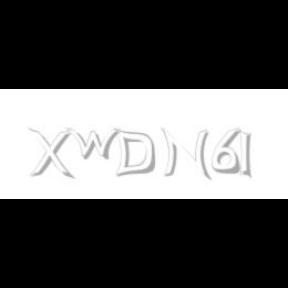6: (212, 128, 240, 176)
D: (112, 128, 156, 178)
I: (240, 128, 252, 180)
N: (161, 128, 210, 180)
X: (28, 128, 72, 180)
w: (66, 128, 124, 160)
